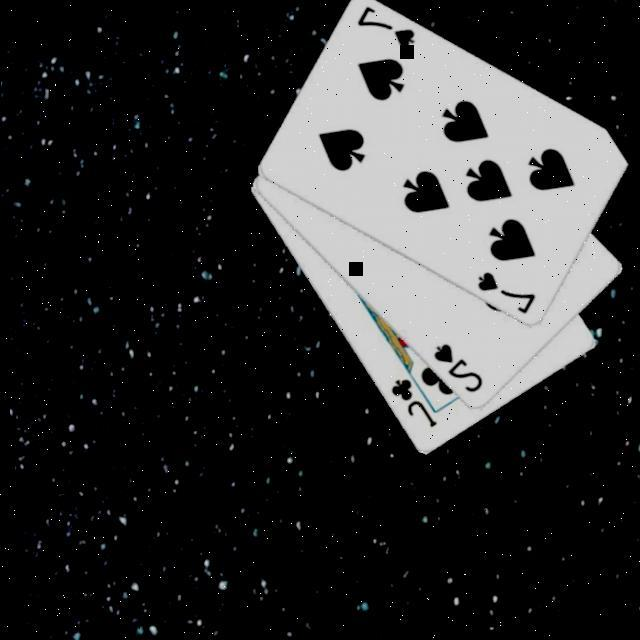2S: (426, 336, 484, 398)
7S: (471, 263, 536, 319), (350, 0, 416, 53)
JC: (383, 373, 437, 432)
